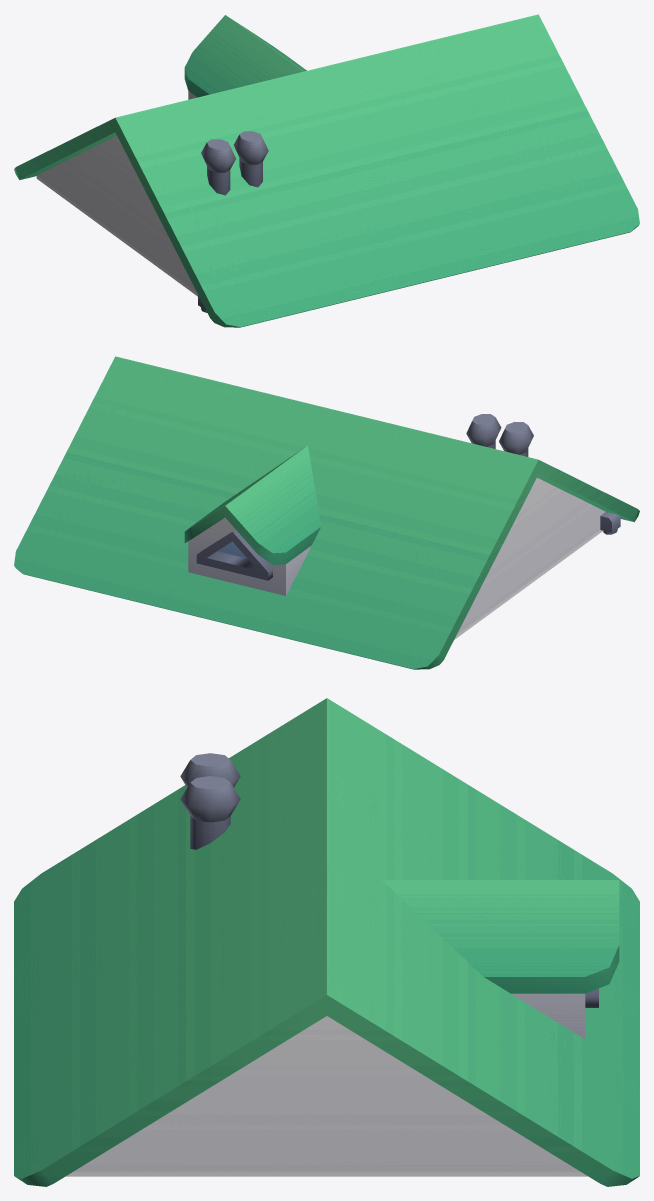
Rendered from suburban-e.glb.
The picture shows the model from 3 angles, top to bottom: view 1: azimuth 30°, elevation 25°; view 2: azimuth 150°, elevation 25°; view 3: azimuth 270°, elevation 25°; orthographic projection. The views are drawn at different scales.
Visible parts, largest first — view 1: building-type-e; view 2: building-type-e; view 3: building-type-e.
Part boxes in pixels (x1,y1,x2,y2): building-type-e: (14, 14, 639, 327); building-type-e: (14, 356, 639, 669); building-type-e: (14, 698, 639, 1186).
Bounding box in the file's own units: 12 × 3.64 × 10.69.
1 material, 1 textured.
